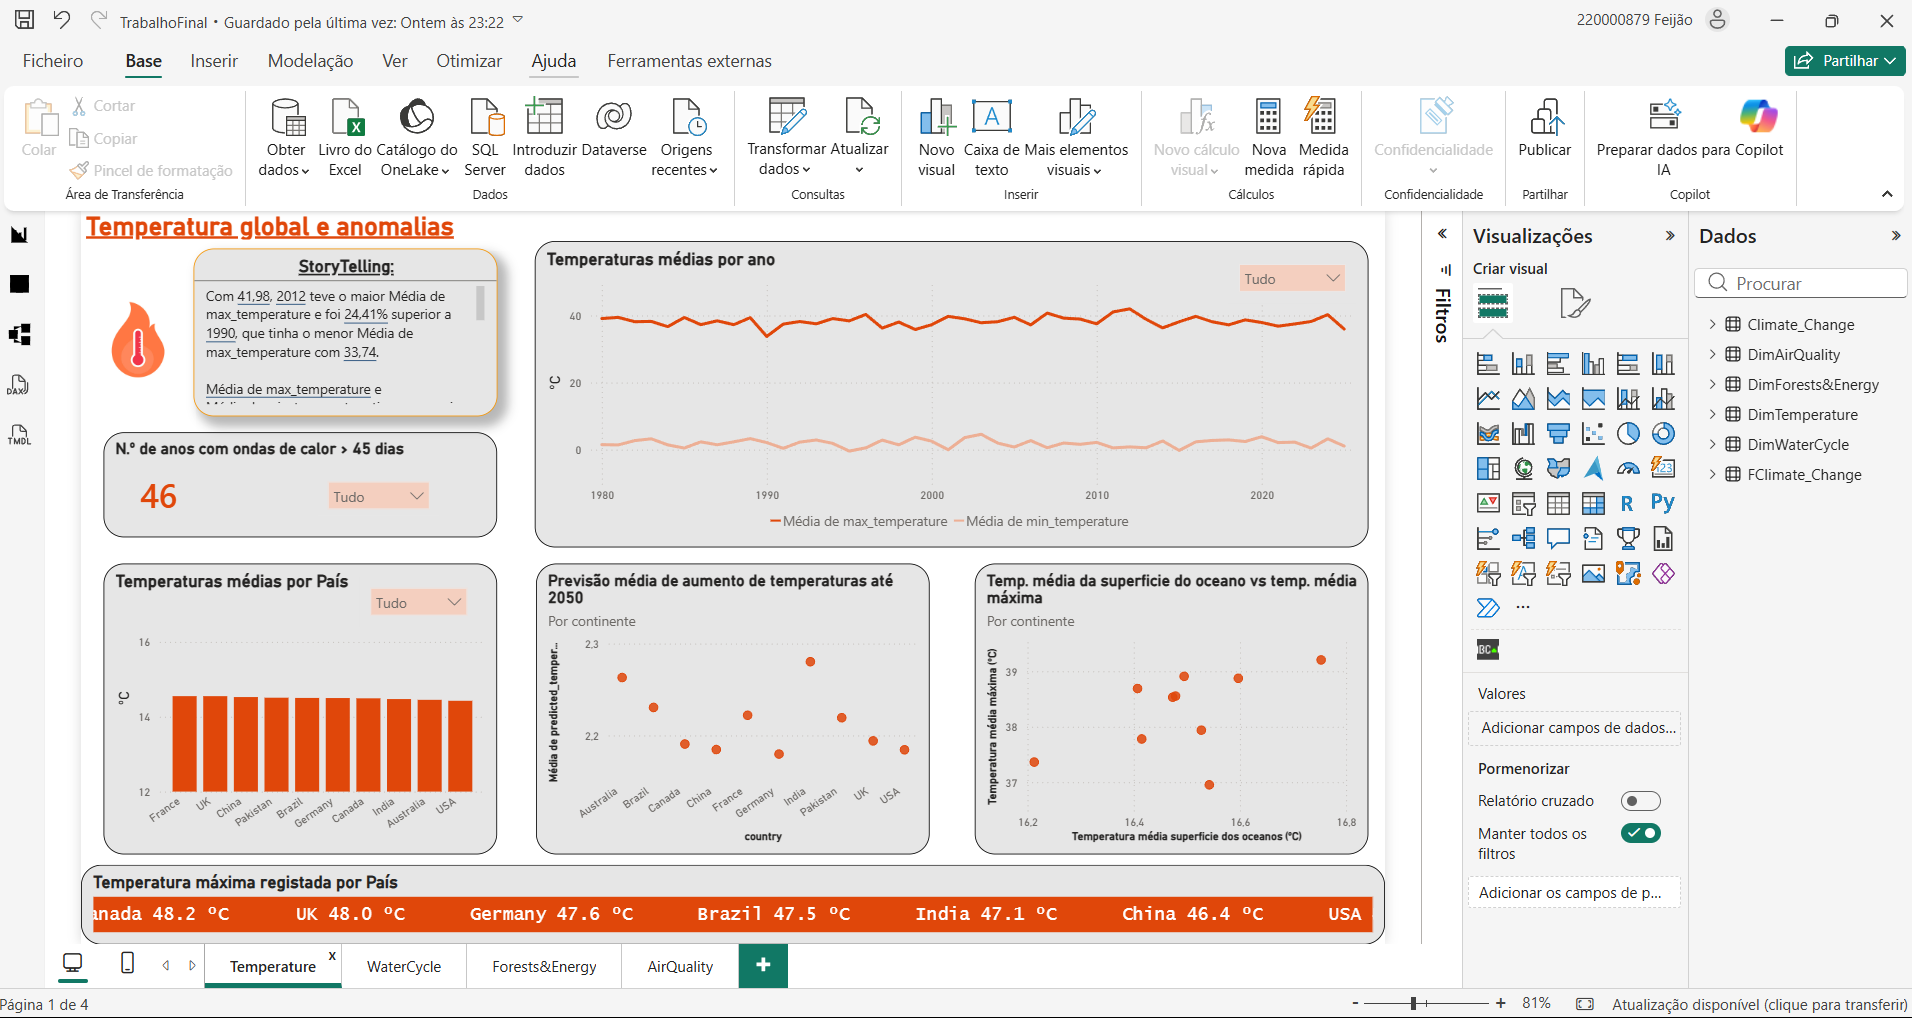

What the dashboard file says about the page in this screenshot:
{"tool":"powerbi","page":{"name":"Temperature","canvas":[1280,720],"ordinal":0},"visuals":[{"type":"clusteredColumnChart","title":"Temperaturas médias por País ","fields":{"Category":["FClimate_Change.country"],"Y":["Avg(DimTemperature.global_avg_temperature)"]},"box":[22.1,346,386.5,285.9],"z":0},{"type":"slicer","title":"Ano","fields":{"Values":["FClimate_Change.year"]},"box":[273.6,359.5,115.3,49.1],"z":1000},{"type":"lineChart","title":"Temperaturas médias por ano","fields":{"Category":["FClimate_Change.year"],"Y":["Avg(DimTemperature.max_temperature)","Avg(DimTemperature.min_temperature)"]},"box":[445.3,29.9,818.5,301],"z":2000},{"type":"slicer","title":"Ano","fields":{"Values":["FClimate_Change.country"]},"box":[1126.4,41.7,125.2,49.1],"z":3000},{"type":"cardVisual","title":"N.º de anos com ondas de calor > 45 dias","fields":{"Data":["DimTemperature.Anos Heatwave > 45"]},"box":[22.1,217.2,386.5,103.1],"z":4000},{"type":"slicer","fields":{"Values":["FClimate_Change.country"]},"box":[231.9,255.2,120.2,44.2],"z":5000},{"type":"ScrollingTextVisual1448795304508","title":"Temperatura máxima registada por País","fields":{"Measure Absolute":["Max(DimTemperature.max_temperature)"],"Category":["FClimate_Change.country"]},"box":[0,641.7,1279.8,78.5],"z":6000},{"type":"scatterChart","title":"Previsão média de aumento de temperaturas até 2050","fields":{"X":["FClimate_Change.country"],"Y":["Avg(DimTemperature.predicted_temperature_2050)"]},"box":[446.6,346,386.5,285.9],"z":7000},{"type":"scatterChart","title":"Temp. média da superficie do oceano vs temp. média máxima","fields":{"Category":["FClimate_Change.country"],"X":["Avg(DimWaterCycle.sea_surface_temperature)"],"Y":["Avg(DimTemperature.max_temperature)"]},"box":[877.3,346,386.5,285.9],"z":8000},{"type":"textbox","title":"Temperatura global e anomalias","box":[0,0,385.3,36.8],"z":9000},{"type":"image","box":[0,66.3,110.4,120.2],"z":10000},{"type":"textbox","title":"StoryTelling:","box":[110.4,36.8,298.2,164.4],"z":10001}]}

Visuals, with their boxes on the page's 1280x720 design canvas (x1, y1, x2, y2). These are canvas units, not pixel positions in the 1912x1018 screenshot, which may show the page scaled, cropped or inside an application window:
"Temperaturas médias por País " clusteredColumnChart: [left=22, top=346, right=409, bottom=632]
"Ano" slicer: [left=274, top=360, right=389, bottom=409]
"Temperaturas médias por ano" lineChart: [left=445, top=30, right=1264, bottom=331]
"Ano" slicer: [left=1126, top=42, right=1252, bottom=91]
"N.º de anos com ondas de calor > 45 dias" cardVisual: [left=22, top=217, right=409, bottom=320]
slicer - FClimate_Change.country: [left=232, top=255, right=352, bottom=299]
"Temperatura máxima registada por País" ScrollingTextVisual1448795304508: [left=0, top=642, right=1280, bottom=720]
"Previsão média de aumento de temperaturas até 2050" scatterChart: [left=447, top=346, right=833, bottom=632]
"Temp. média da superficie do oceano vs temp. média máxima" scatterChart: [left=877, top=346, right=1264, bottom=632]
"Temperatura global e anomalias" textbox: [left=0, top=0, right=385, bottom=37]
image: [left=0, top=66, right=110, bottom=186]
"StoryTelling:" textbox: [left=110, top=37, right=409, bottom=201]
